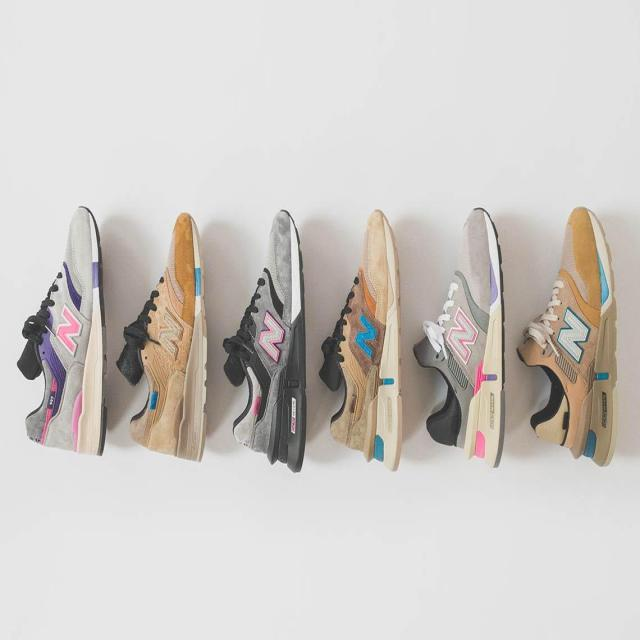shoe: (516, 208, 620, 466), (409, 207, 507, 473), (116, 210, 213, 465), (15, 203, 111, 459), (318, 207, 408, 469), (222, 208, 309, 477)
